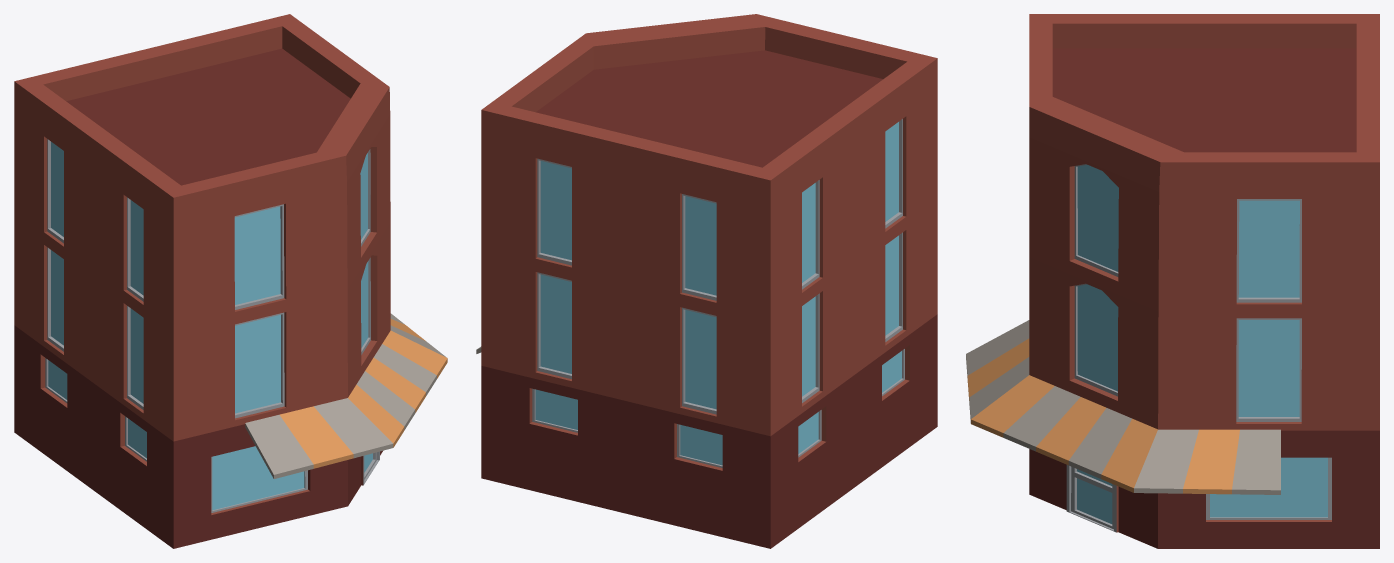
The model's file is SM_cafe_01_A.gltf.
3 renders of one model, left to right at view 1: azimuth 30°, elevation 25°; view 2: azimuth 150°, elevation 25°; view 3: azimuth 270°, elevation 25°, orthographic. The views are drawn at different scales.
Visible parts, largest first — view 1: SM_cafe_01_A; view 2: SM_cafe_01_A; view 3: SM_cafe_01_A.
Boxes of the visible parts, box(x1,y1,x2,y2) form: SM_cafe_01_A: box(14, 14, 447, 548); SM_cafe_01_A: box(476, 14, 937, 548); SM_cafe_01_A: box(966, 14, 1379, 548).
Size of the model in its own units: 3.99 by 4.11 by 3.99.
